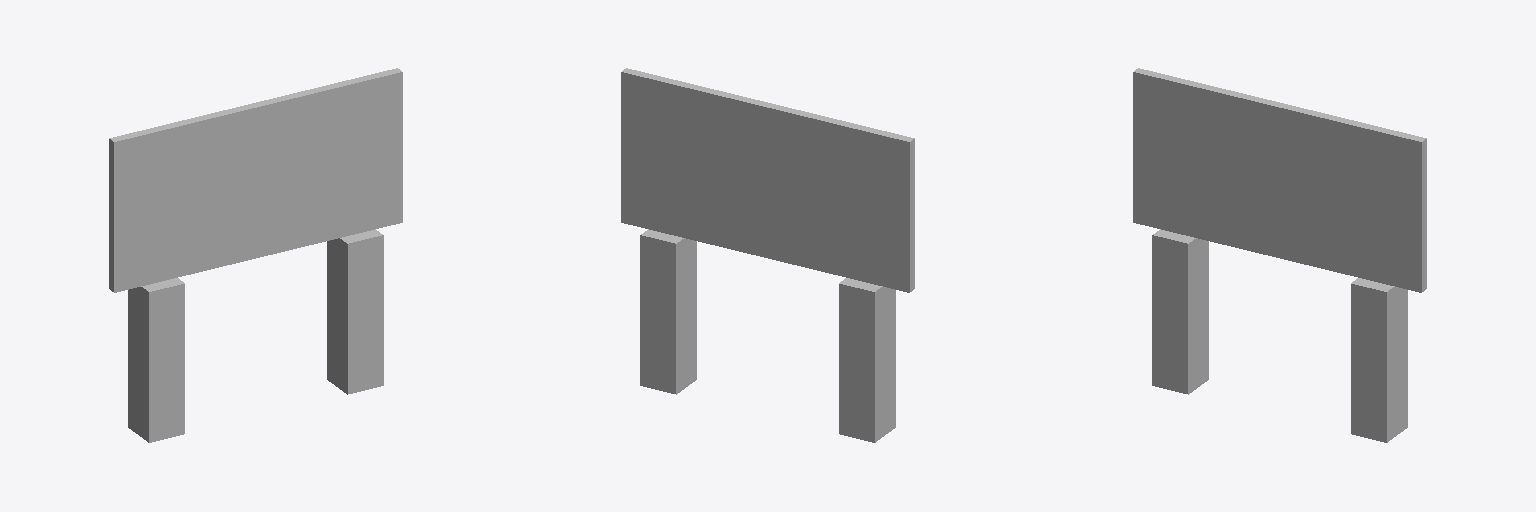
File: placa_cafe.obj
3 views of the same model, side by side, from view 1: azimuth 30°, elevation 25°; view 2: azimuth 150°, elevation 25°; view 3: azimuth 330°, elevation 25° (orthographic).
Visible parts, largest first — view 1: Block, Block1; view 2: Block, Block1; view 3: Block, Block1.
Part boxes in pixels (left/top/right/bottom): Block: left=109, top=68, right=402, bottom=292; Block1: left=128, top=229, right=383, bottom=442; Block: left=621, top=68, right=914, bottom=292; Block1: left=640, top=229, right=895, bottom=442; Block: left=1133, top=68, right=1426, bottom=292; Block1: left=1152, top=229, right=1407, bottom=442.
Size of the model in its own units: 2 by 2 by 0.25.